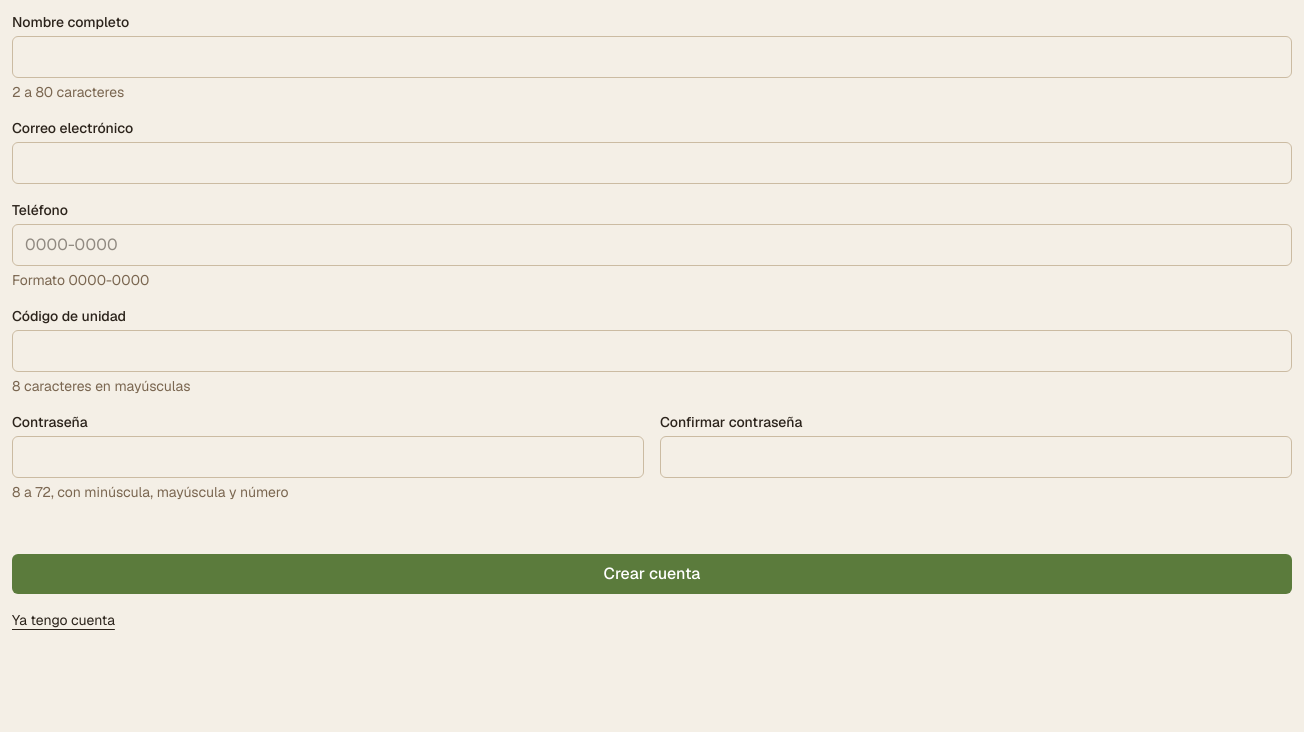
Test: H38. Roles, registro de residentes y protección de rutas › AC1: el código de unidad inexistente (404) se muestra junto a su campo
Type "Ana María O'Neil-López" into the field labelled "Nombre completo" at coordinates (652, 57), box [12,36,1292,78]
Type "ana@condominio.test" into the field labelled "Correo electrónico" at coordinates (652, 163), box [12,142,1292,184]
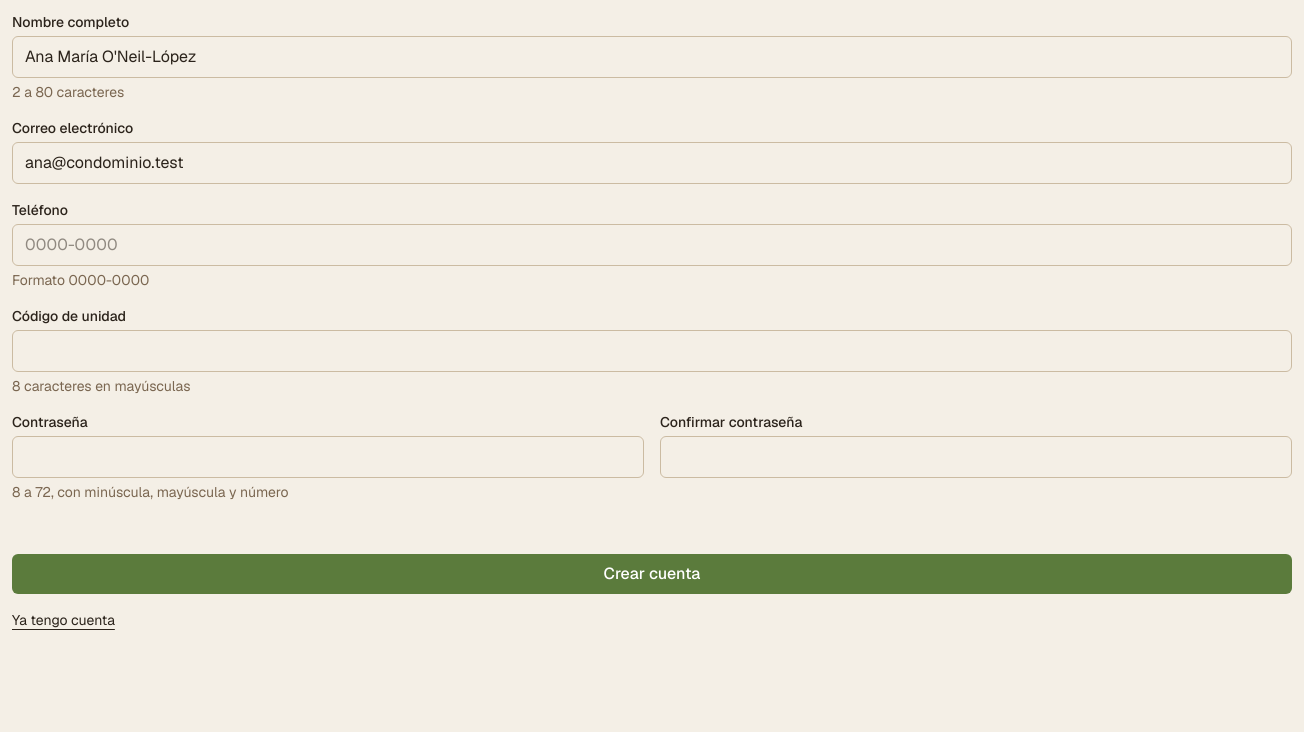
Type "7000-0000" into the field labelled "Teléfono" at coordinates (652, 245), box [12,224,1292,266]
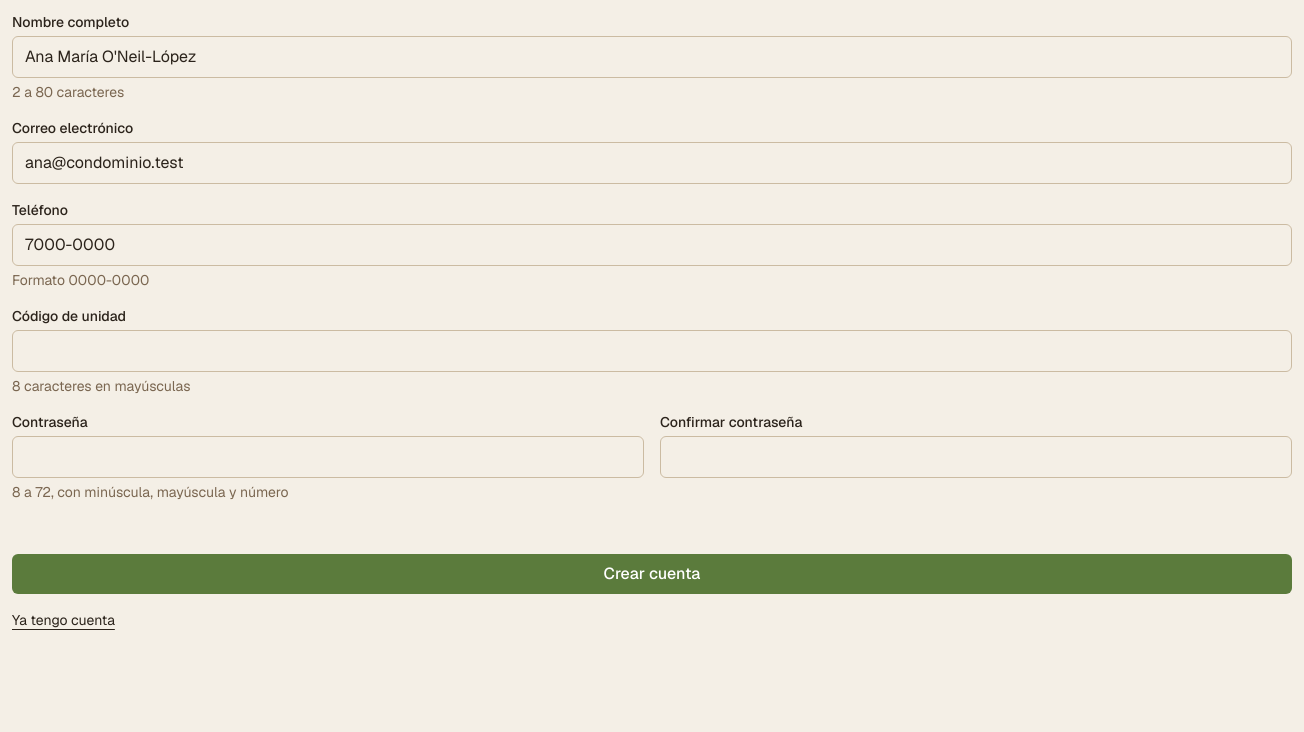
Type "ABCD2345" into the field labelled "Código de unidad" at coordinates (652, 351), box [12,330,1292,372]
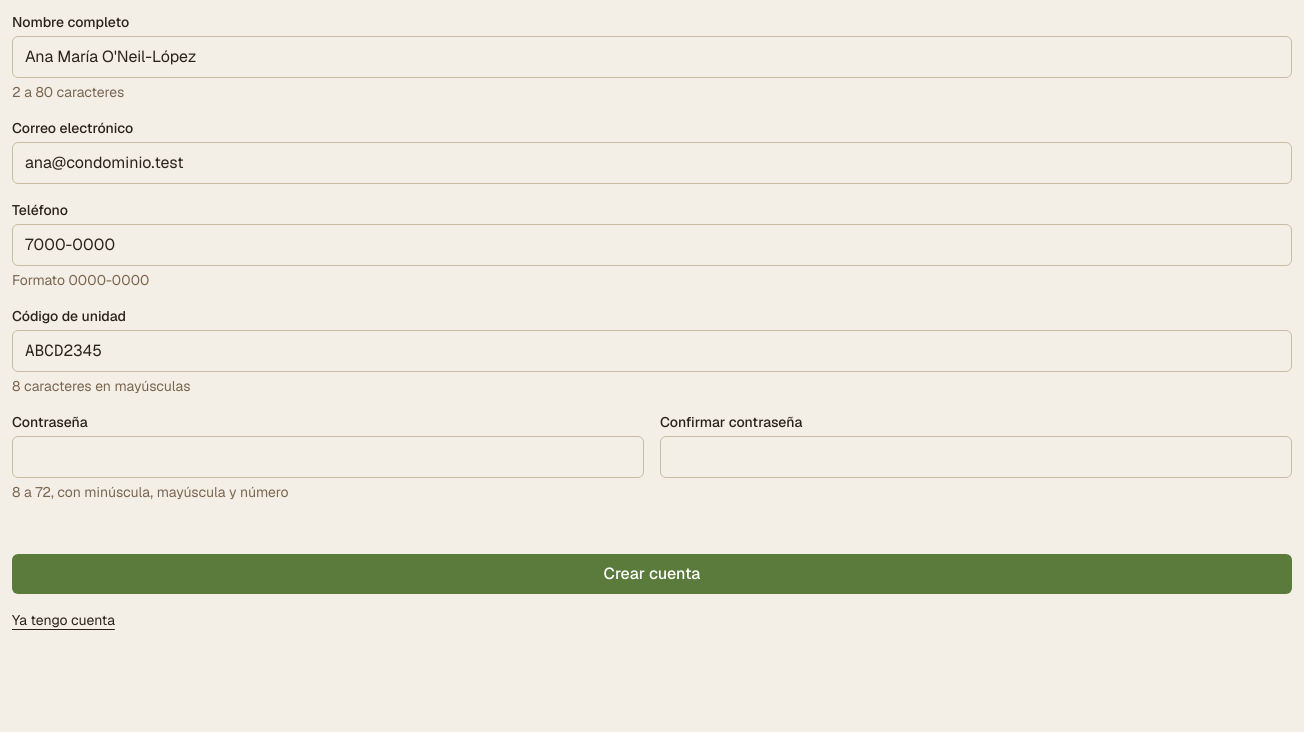
Type "Clave1234" into the password field labelled "Contraseña" at coordinates (328, 457), box [12,436,644,478]
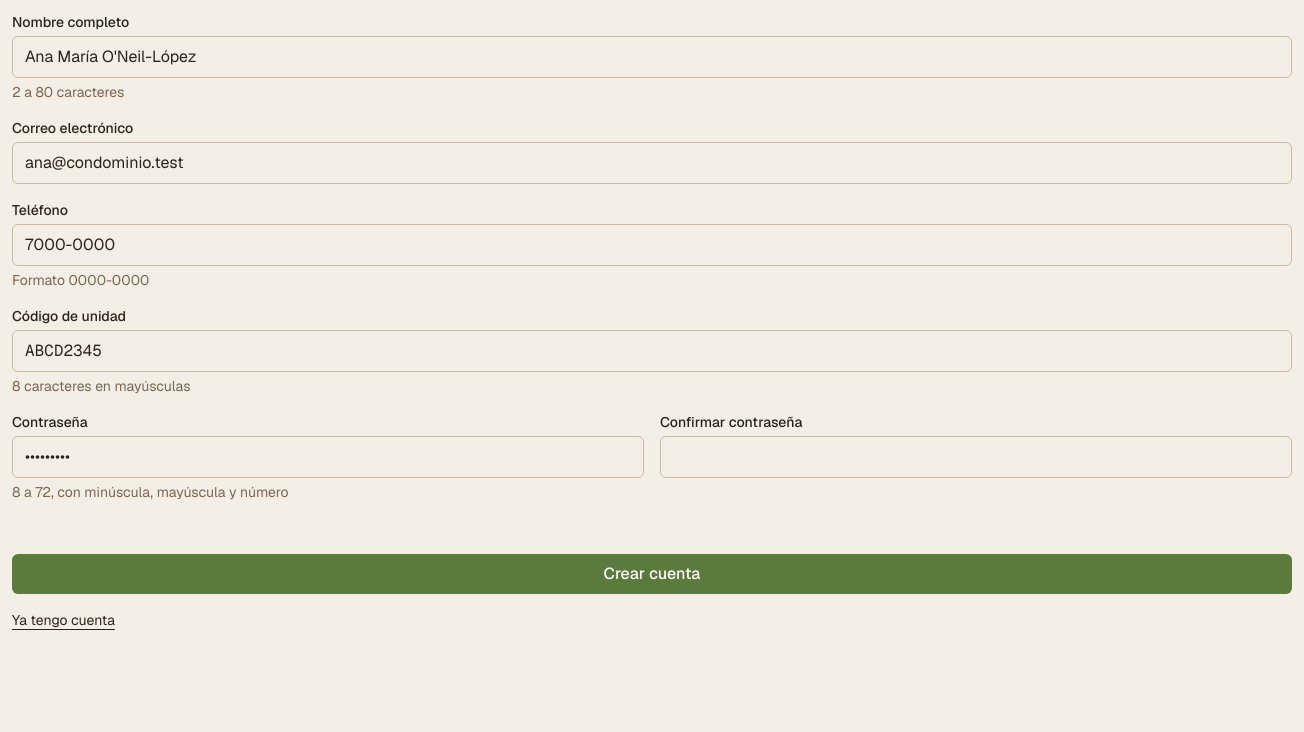
Type "Clave1234" into the password field labelled "Confirmar contraseña" at coordinates (976, 457), box [660,436,1292,478]
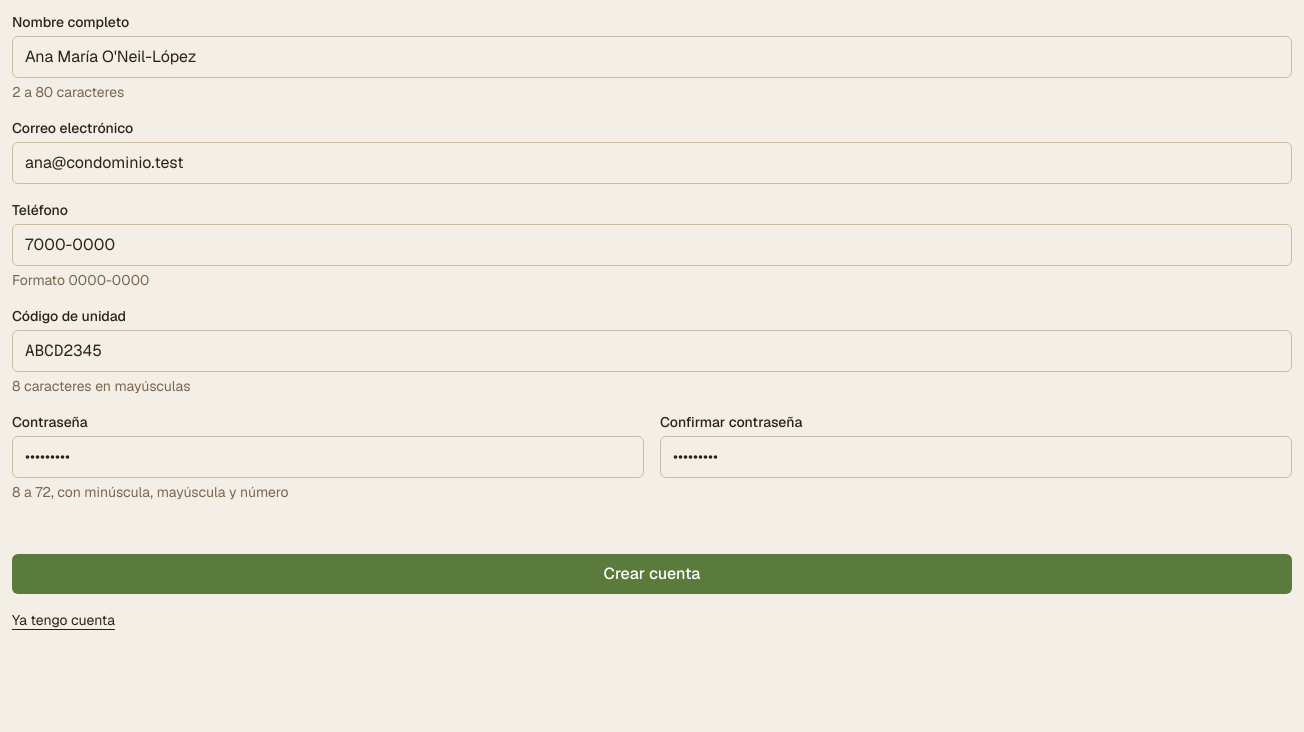
Click the button "Crear cuenta" at coordinates (652, 574), box [12,554,1292,594]
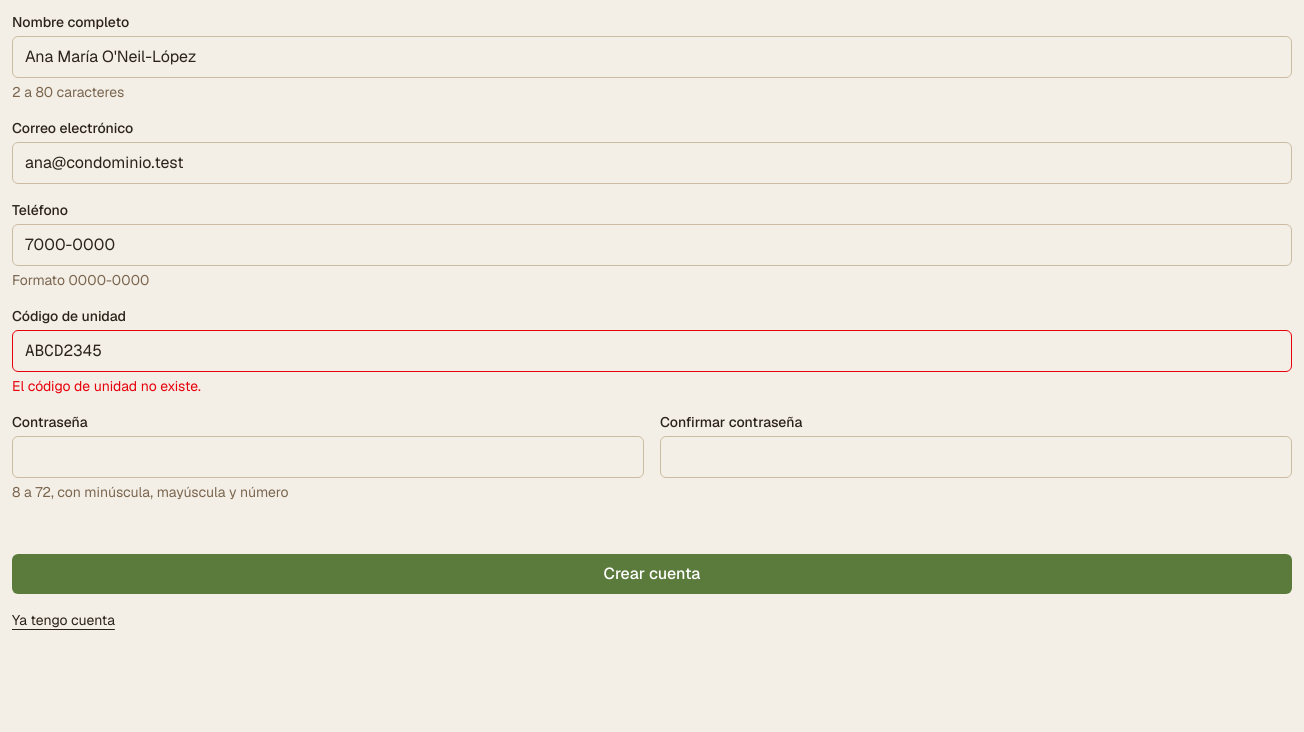
Expected: the text "El código de unidad no existe." is shown, [12,377,201,395]
